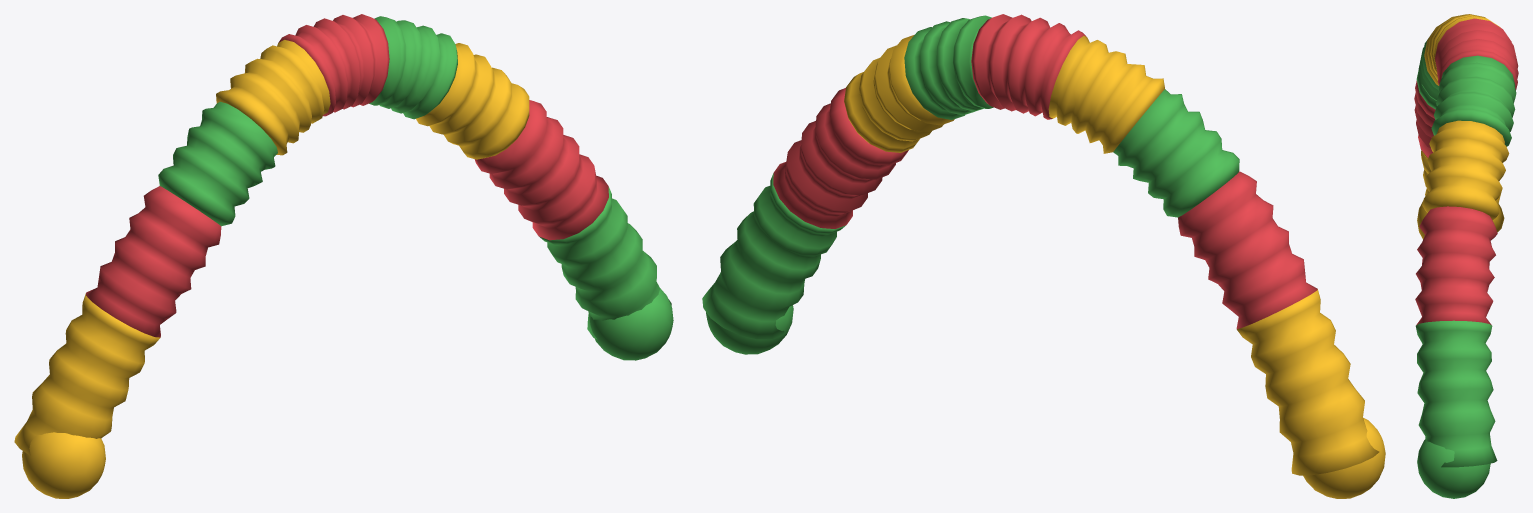
Rendered from gummy-vine.glb.
The picture shows the model from 3 angles, left to right: view 1: azimuth 30°, elevation 25°; view 2: azimuth 150°, elevation 25°; view 3: azimuth 270°, elevation 25°; orthographic projection. The views are drawn at different scales.
Visible parts, largest first — view 1: Gummy worm color segment 01, Gummy worm color segment 00, Gummy worm color segment 07, Gummy worm color segment 02, Gummy worm color segment 08, Gummy worm color segment 06, Gummy worm color segment 03, Gummy worm color segment 04, Gummy worm color segment 05, Worm rounded tail, Worm rounded head; view 2: Gummy worm color segment 00, Gummy worm color segment 01, Gummy worm color segment 08, Gummy worm color segment 07, Gummy worm color segment 02, Gummy worm color segment 03, Gummy worm color segment 04, Gummy worm color segment 06, Gummy worm color segment 05, Worm rounded tail, Worm rounded head; view 3: Gummy worm color segment 08, Gummy worm color segment 07, Gummy worm color segment 06, Gummy worm color segment 05, Gummy worm color segment 04, Worm rounded head, Gummy worm color segment 03, Gummy worm color segment 01, Gummy worm color segment 02, Gummy worm color segment 00, Worm rounded tail.
Boxes of the visible parts, left/top/right/bottom form: Gummy worm color segment 01: left=86, top=186, right=221, bottom=337; Gummy worm color segment 00: left=14, top=293, right=160, bottom=455; Gummy worm color segment 07: left=474, top=100, right=608, bottom=240; Gummy worm color segment 02: left=158, top=101, right=277, bottom=226; Gummy worm color segment 08: left=539, top=187, right=671, bottom=339; Gummy worm color segment 06: left=416, top=43, right=529, bottom=159; Gummy worm color segment 03: left=216, top=39, right=330, bottom=155; Gummy worm color segment 04: left=278, top=14, right=389, bottom=116; Gummy worm color segment 05: left=369, top=16, right=457, bottom=119; Worm rounded tail: left=22, top=432, right=105, bottom=498; Worm rounded head: left=590, top=288, right=673, bottom=360; Gummy worm color segment 00: left=1237, top=289, right=1379, bottom=475; Gummy worm color segment 01: left=1178, top=171, right=1317, bottom=328; Gummy worm color segment 08: left=702, top=173, right=845, bottom=339; Gummy worm color segment 07: left=773, top=88, right=908, bottom=228; Gummy worm color segment 02: left=1113, top=89, right=1239, bottom=217; Gummy worm color segment 03: left=1048, top=36, right=1164, bottom=153; Gummy worm color segment 04: left=971, top=14, right=1086, bottom=119; Gummy worm color segment 06: left=844, top=35, right=954, bottom=152; Gummy worm color segment 05: left=904, top=15, right=993, bottom=119; Worm rounded tail: left=1303, top=417, right=1385, bottom=498; Worm rounded head: left=706, top=305, right=793, bottom=354; Gummy worm color segment 08: left=1415, top=320, right=1497, bottom=467; Gummy worm color segment 07: left=1415, top=206, right=1497, bottom=325; Gummy worm color segment 06: left=1422, top=120, right=1509, bottom=220; Gummy worm color segment 05: left=1431, top=55, right=1516, bottom=146; Gummy worm color segment 04: left=1435, top=18, right=1518, bottom=90; Worm rounded head: left=1417, top=439, right=1490, bottom=498; Gummy worm color segment 03: left=1424, top=14, right=1500, bottom=85; Gummy worm color segment 01: left=1414, top=80, right=1435, bottom=157; Gummy worm color segment 02: left=1416, top=38, right=1438, bottom=109; Gummy worm color segment 00: left=1421, top=150, right=1504, bottom=232; Worm rounded tail: left=1417, top=201, right=1427, bottom=239.
Size of the model in its own units: 7.01 by 4.12 by 1.13.
